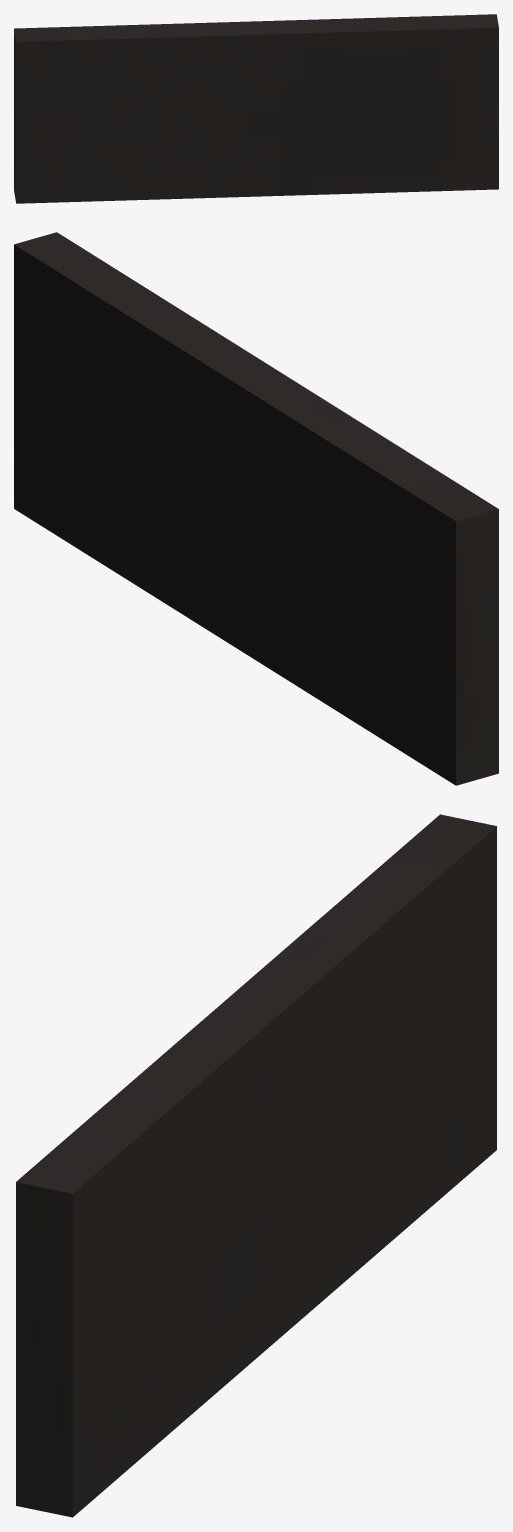
File: backrest__backrest_pad.glb
The picture shows the model from 3 angles, top to bottom: view 1: azimuth 30°, elevation 25°; view 2: azimuth 150°, elevation 25°; view 3: azimuth 270°, elevation 25°; orthographic projection. The views are drawn at different scales.
Visible parts, largest first — view 1: world; view 2: world; view 3: world.
Part boxes in pixels (<box>): world: <box>14,14,498,203</box>; world: <box>14,232,498,785</box>; world: <box>16,814,496,1517</box>.
Bounding box in the file's own units: 0.7791 × 0.31 × 0.4177.
Materials: 1 (1 with a texture image).
